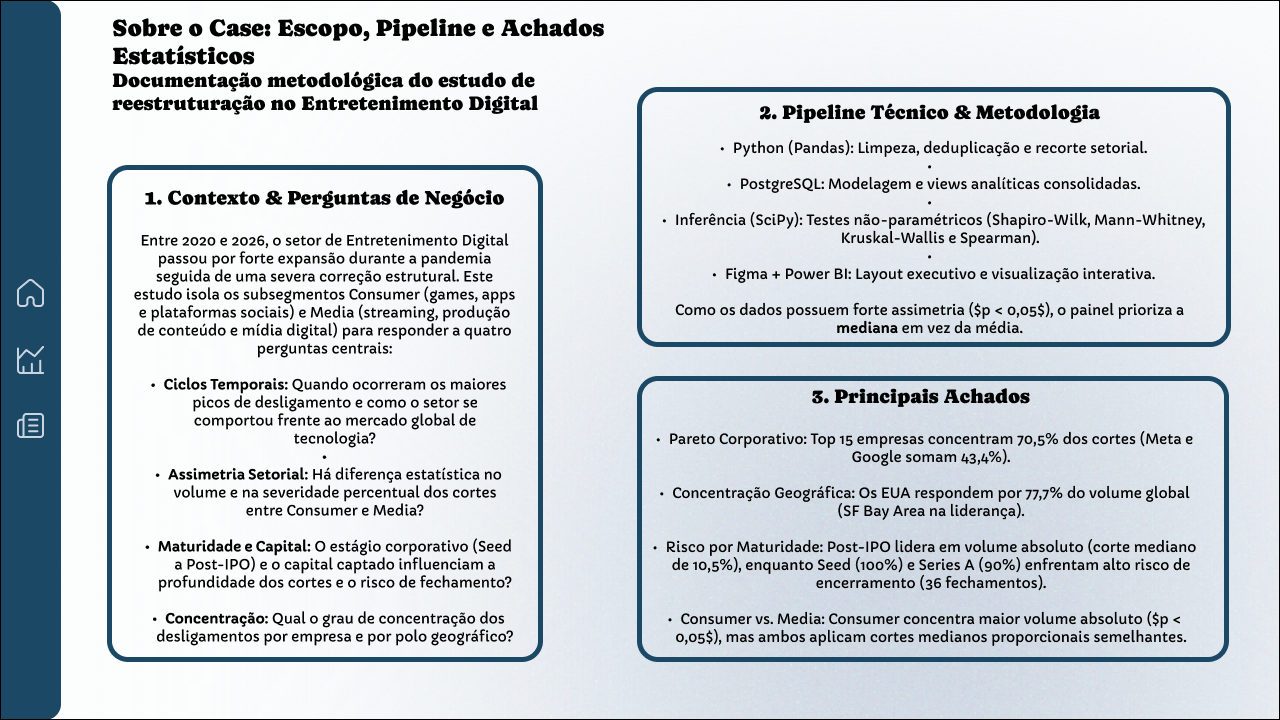

Layout of this report page (visuals, bound fields, positions):
{"tool":"powerbi","page":{"name":"Sobre o Case","canvas":[1920,1080],"ordinal":3},"visuals":[{"type":"image","title":"Imagem","box":[0,0,1920,1080],"z":0,"group":"g1"},{"type":"image","title":"Padrão","box":[0,0,1920,1080],"z":0},{"type":"group","id":"g1","title":"Navegação","box":[0,0,1920,1080],"z":1000},{"type":"pageNavigator","box":[120,432,192,216],"z":1000,"group":"g1"},{"type":"actionButton","title":"Voltar a Página Padrão","box":[290,35,40,40],"z":2000},{"type":"actionButton","title":"Painel Navegação","box":[7,505,72,72],"z":3000},{"type":"pageNavigator","title":"Sobre o Case","box":[12,608,60,60],"z":4000},{"type":"pageNavigator","title":"Home","box":[22,418,60,60],"z":5000}]}

Visuals, with their boxes on the page's 1920x1080 design canvas (x1, y1, x2, y2). These are canvas units, not pixel positions in the 1280x720 screenshot, which may show the page scaled, cropped or inside an application window:
"Imagem" image: 0 0 1920 1080
"Padrão" image: 0 0 1920 1080
"Navegação" group: 0 0 1920 1080
pageNavigator: 120 432 312 648
"Voltar a Página Padrão" actionButton: 290 35 330 75
"Painel Navegação" actionButton: 7 505 79 577
"Sobre o Case" pageNavigator: 12 608 72 668
"Home" pageNavigator: 22 418 82 478
